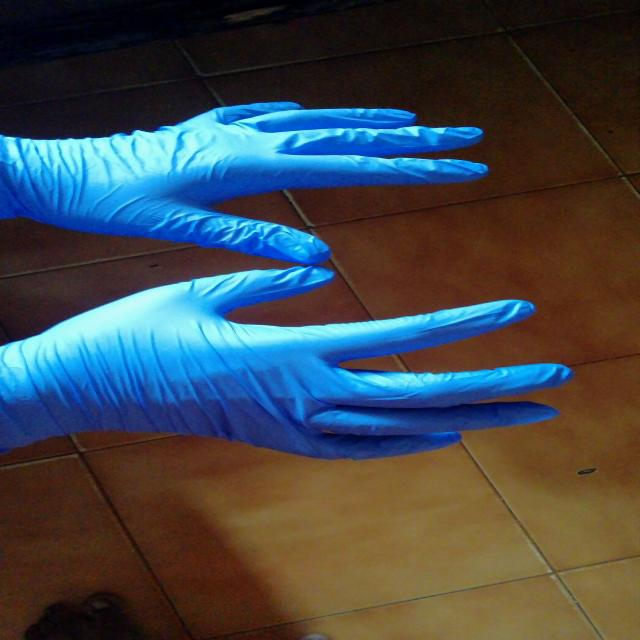glove: (0, 262, 584, 464), (5, 98, 493, 266)
